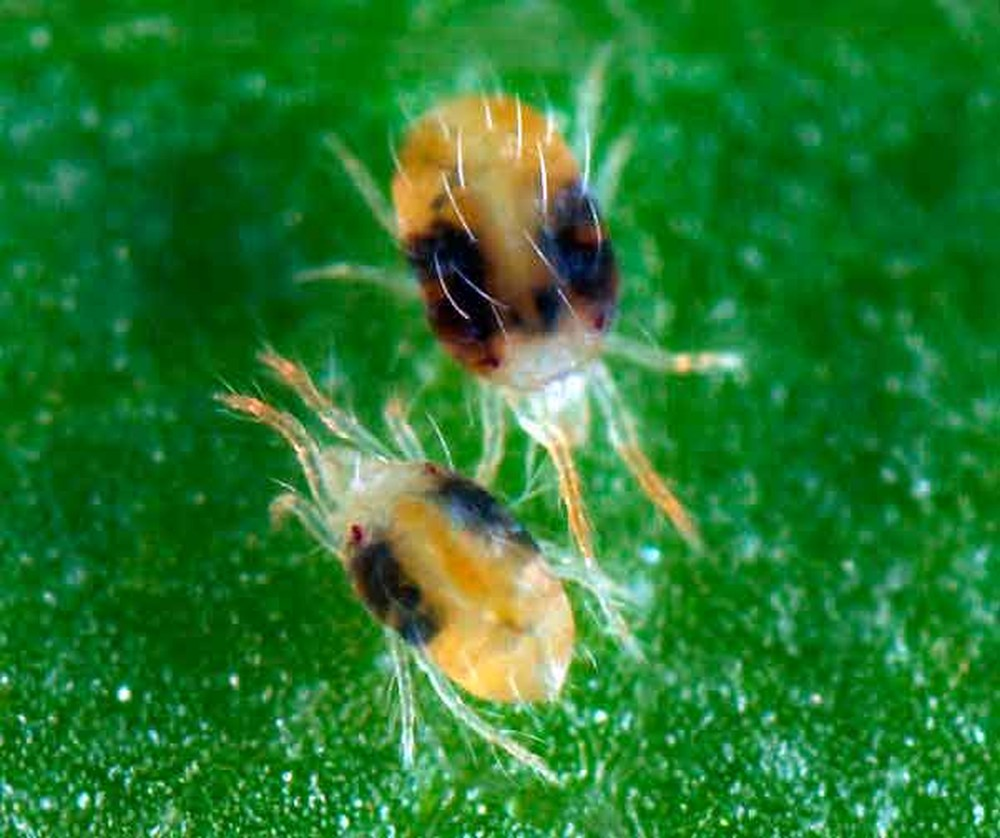Aracnido Rojo: (196, 326, 657, 795), (346, 101, 747, 570)
